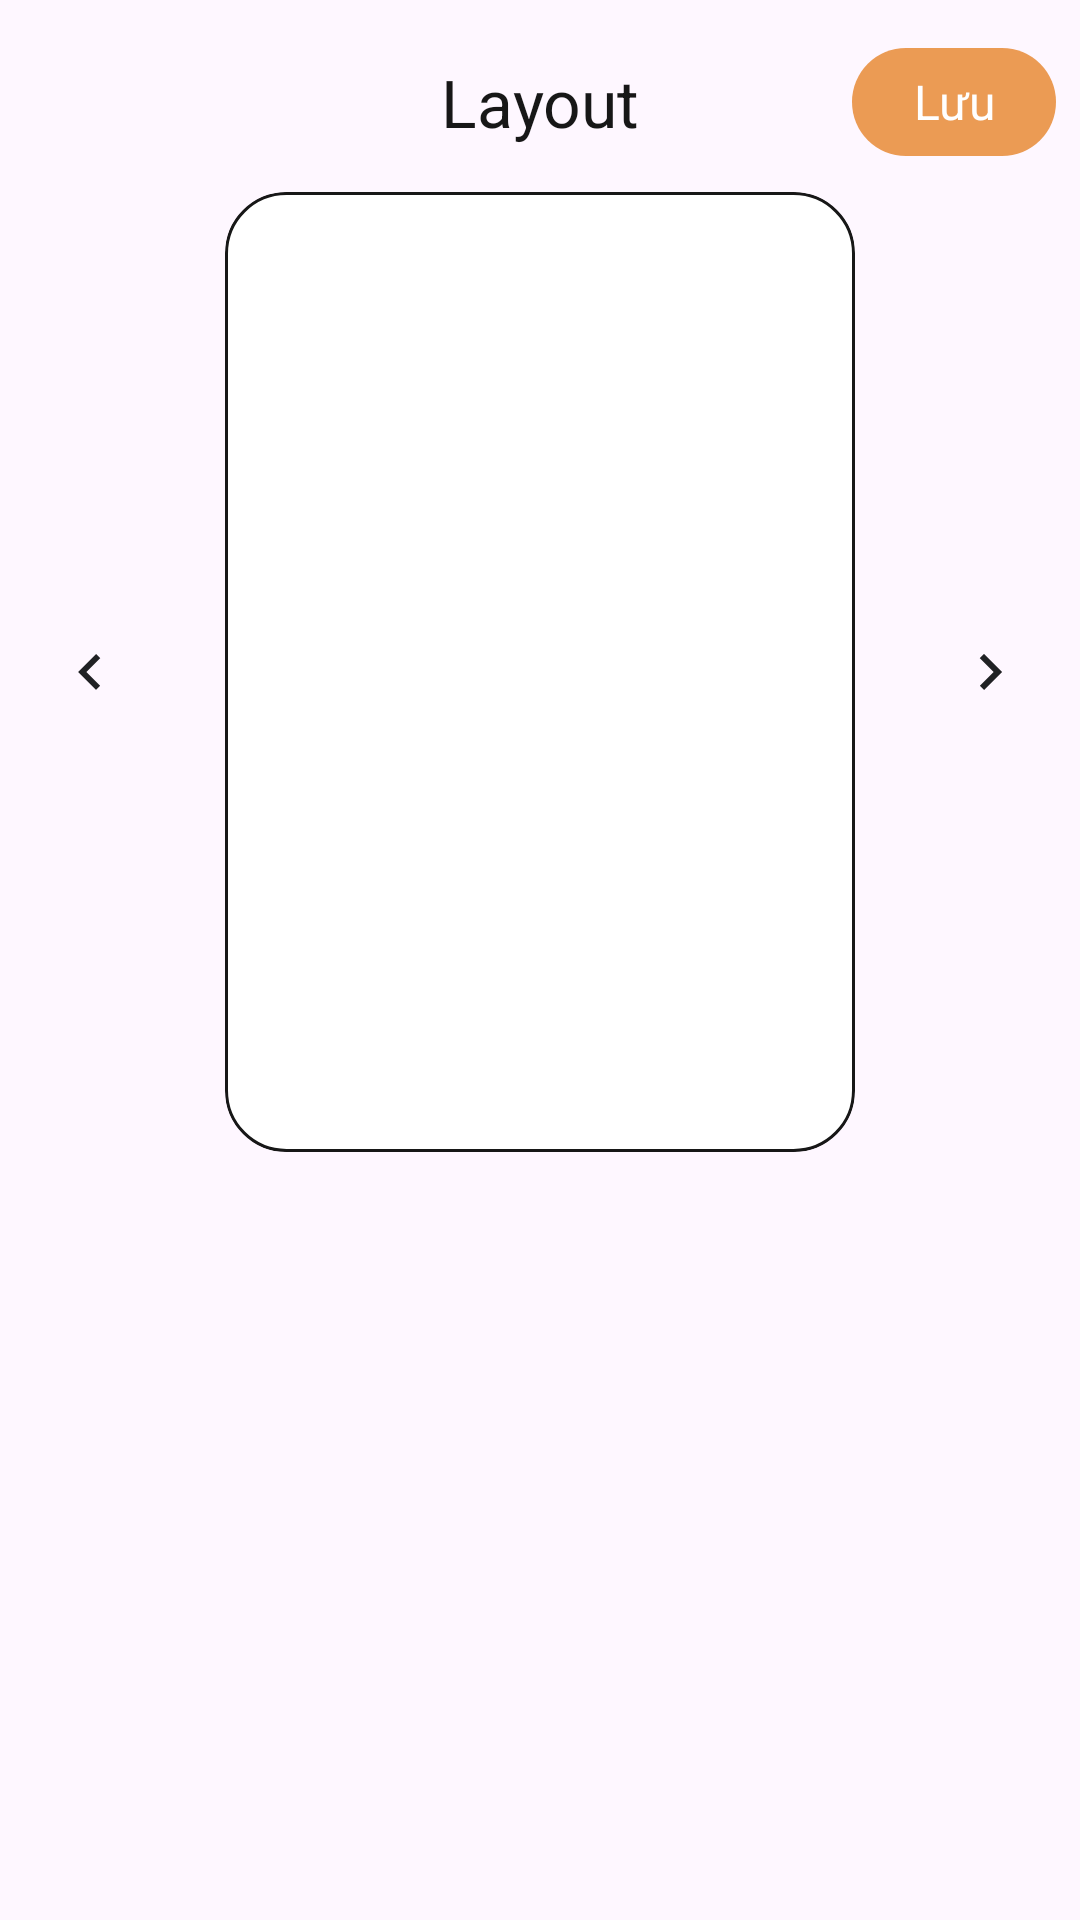

Point at icon controls on the screen. Image size 1080×1920, points as [x,y].
Sau: [991,672]
Trước: [89,672]
